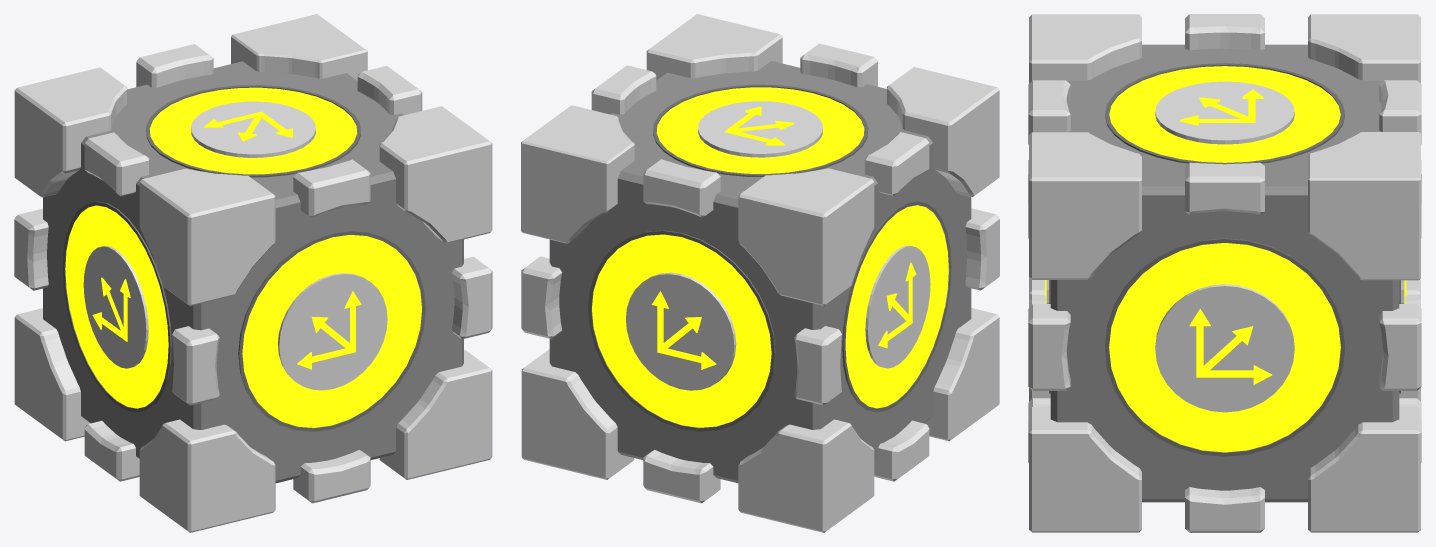
The model's file is cube_real.fbx.
3 views of the same model, side by side, from view 1: azimuth 30°, elevation 25°; view 2: azimuth 150°, elevation 25°; view 3: azimuth 270°, elevation 25° (orthographic). The views are drawn at different scales.
Parts seen in each view (by area): view 1: Cube, Cylinder.001, Cylinder.002, Cylinder, Cube.008, Cube.007, Cube.011, Cube.005, Cube.002, Cube.006, Cube.004, Cube.018 (+8 smaller); view 2: Cube, Cylinder.001, Cylinder.002, Cylinder, Cube.005, Cube.006, Cube.004, Cube.008, Cube.003, Cube.007, Cube.011, Cube.012 (+8 smaller); view 3: Cube, Cylinder.002, Cylinder, Cube.004, Cube.011, Cube.002, Cube.003, Cube.005, Cube.008, Cube.009, Cube.010, Cube.017 (+6 smaller).
Part boxes in pixels (left/top/right/bottom): Cube: left=43, top=61, right=463, bottom=483; Cylinder.001: left=238, top=230, right=425, bottom=431; Cylinder.002: left=62, top=201, right=171, bottom=412; Cylinder: left=146, top=85, right=360, bottom=177; Cube.008: left=139, top=168, right=275, bottom=306; Cube.007: left=139, top=419, right=275, bottom=532; Cube.011: left=379, top=106, right=492, bottom=243; Cube.005: left=14, top=67, right=127, bottom=197; Cube.002: left=379, top=350, right=492, bottom=479; Cube.006: left=14, top=308, right=90, bottom=441; Cube.004: left=231, top=14, right=367, bottom=80; Cube.018: left=172, top=326, right=219, bottom=405; Cube: left=549, top=61, right=971, bottom=483; Cylinder.001: left=588, top=230, right=775, bottom=431; Cylinder.002: left=842, top=201, right=951, bottom=412; Cylinder: left=653, top=84, right=868, bottom=176; Cube.005: left=738, top=168, right=874, bottom=305; Cube.006: left=738, top=419, right=874, bottom=532; Cube.004: left=521, top=105, right=634, bottom=243; Cube.008: left=887, top=67, right=999, bottom=197; Cube.003: left=521, top=349, right=634, bottom=479; Cube.007: left=924, top=308, right=999, bottom=441; Cube.011: left=646, top=14, right=782, bottom=80; Cube.012: left=794, top=326, right=841, bottom=405; Cube: left=1050, top=44, right=1399, bottom=502; Cylinder.002: left=1105, top=238, right=1344, bottom=456; Cylinder: left=1105, top=63, right=1344, bottom=164; Cube.004: left=1308, top=132, right=1420, bottom=280; Cube.011: left=1029, top=132, right=1141, bottom=279; Cube.002: left=1029, top=407, right=1141, bottom=532; Cube.003: left=1308, top=407, right=1420, bottom=532; Cube.005: left=1308, top=14, right=1420, bottom=83; Cube.008: left=1029, top=14, right=1141, bottom=83; Cube.009: left=1185, top=162, right=1264, bottom=214; Cube.010: left=1185, top=487, right=1264, bottom=532; Cube.017: left=1028, top=304, right=1070, bottom=390.
Bounding box in the file's own units: 226 × 226 × 226.
